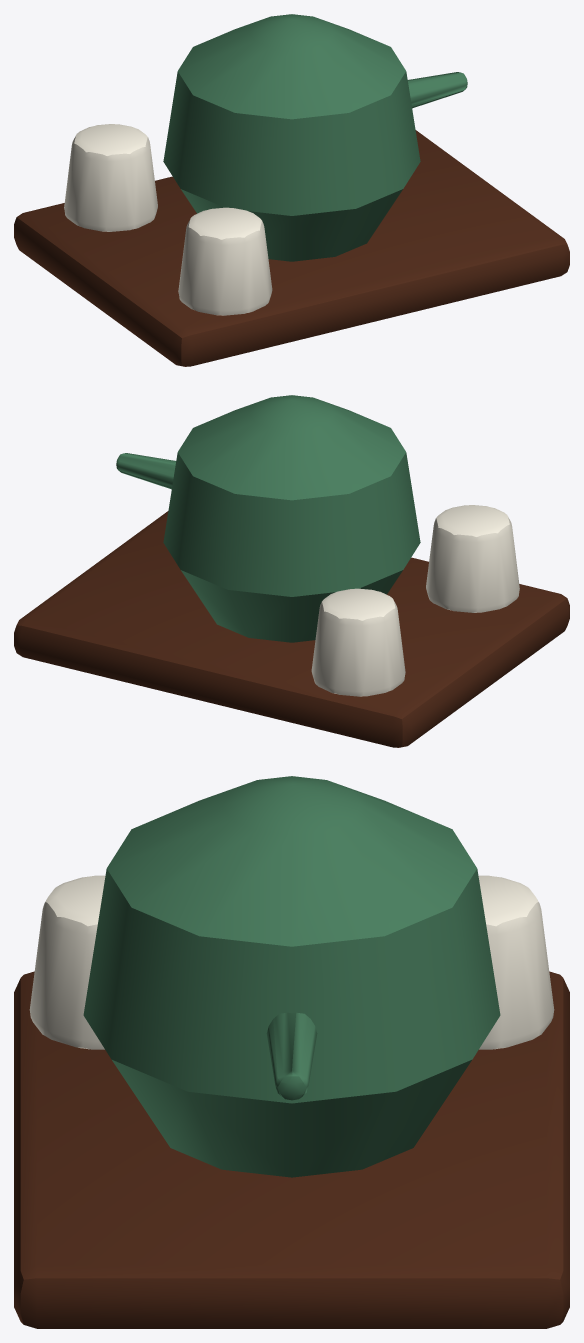
Rendered from RailZen.fbx.
3 renders of one model, top to bottom at view 1: azimuth 30°, elevation 25°; view 2: azimuth 150°, elevation 25°; view 3: azimuth 270°, elevation 25°, orthographic. The views are drawn at different scales.
Visible parts, largest first — view 1: RailZen; view 2: RailZen; view 3: RailZen.
Part boxes in pixels (x1,y1,x2,y2): RailZen: [14, 14, 569, 366]; RailZen: [14, 395, 569, 747]; RailZen: [14, 776, 569, 1328].
Bounding box in the file's own units: 160 × 94.5 × 120.
